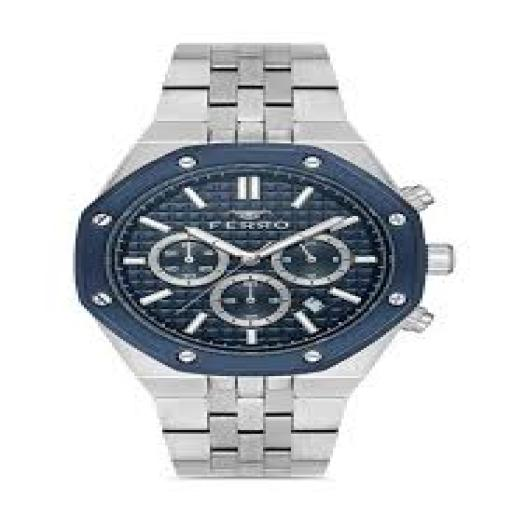KolSaati: (49, 4, 464, 498)
